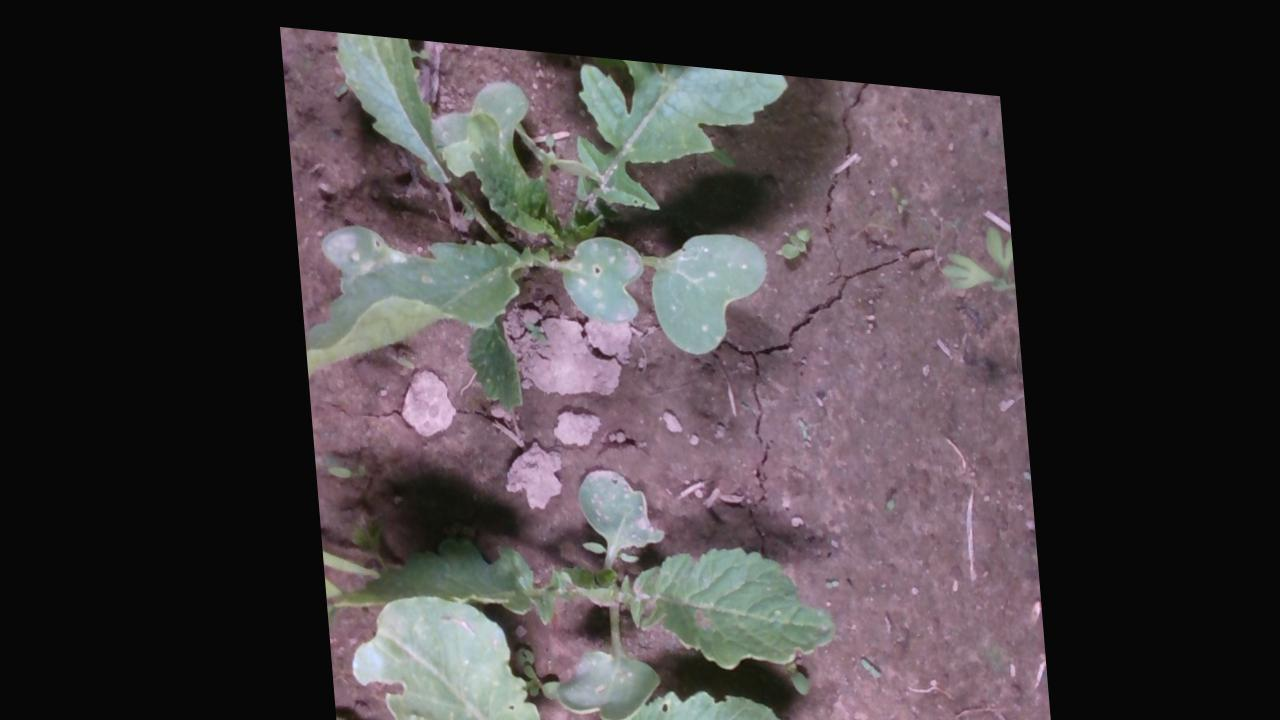weed: (813, 562, 831, 576)
